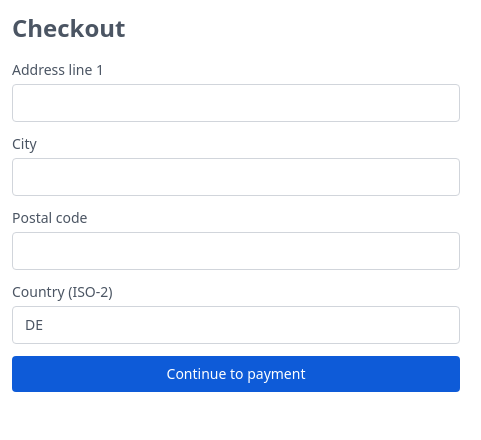
Test: CheckoutPage › renders sign-in alert on 401 from /checkout/session
Type "1 Test St" into the field labelled "Address line 1" at point(236, 103), box [12,84,460,122]
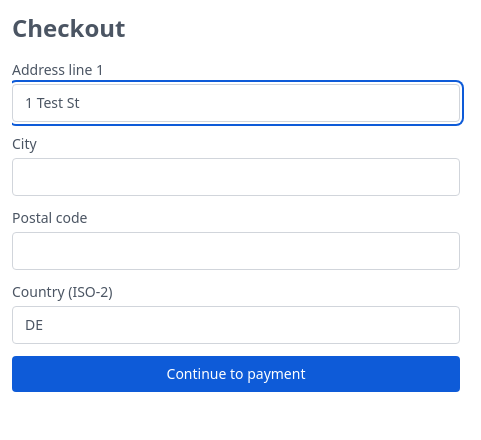
Type "Berlin" into the field labelled "City" at point(236, 177), box [12,158,460,196]
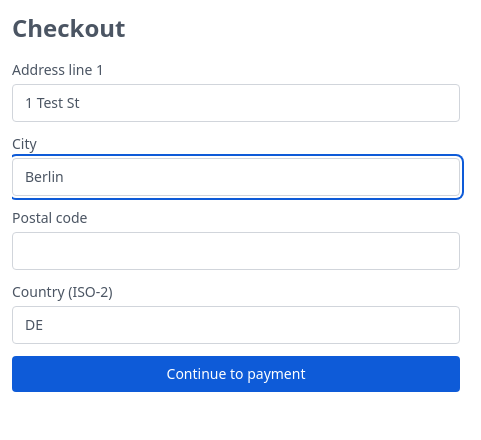
Type "10115" into the field labelled "Postal code" at point(236, 251), box [12,232,460,270]
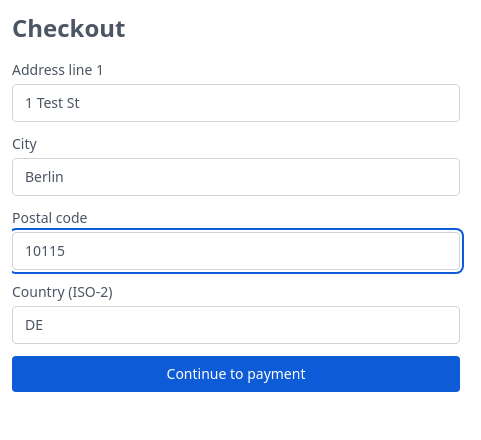
Click the button "Continue to payment" at point(236, 374), box [12,356,460,392]
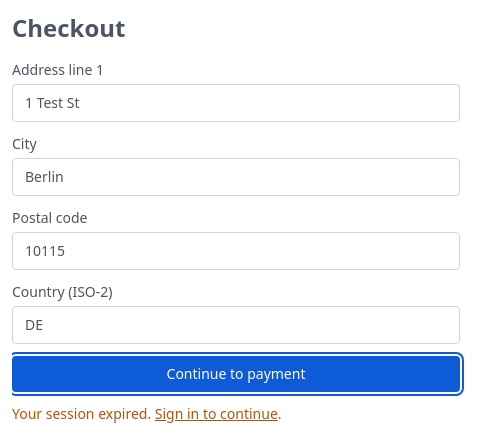
Expected: the message shows "Sign in to continue", [155,404,278,423]
